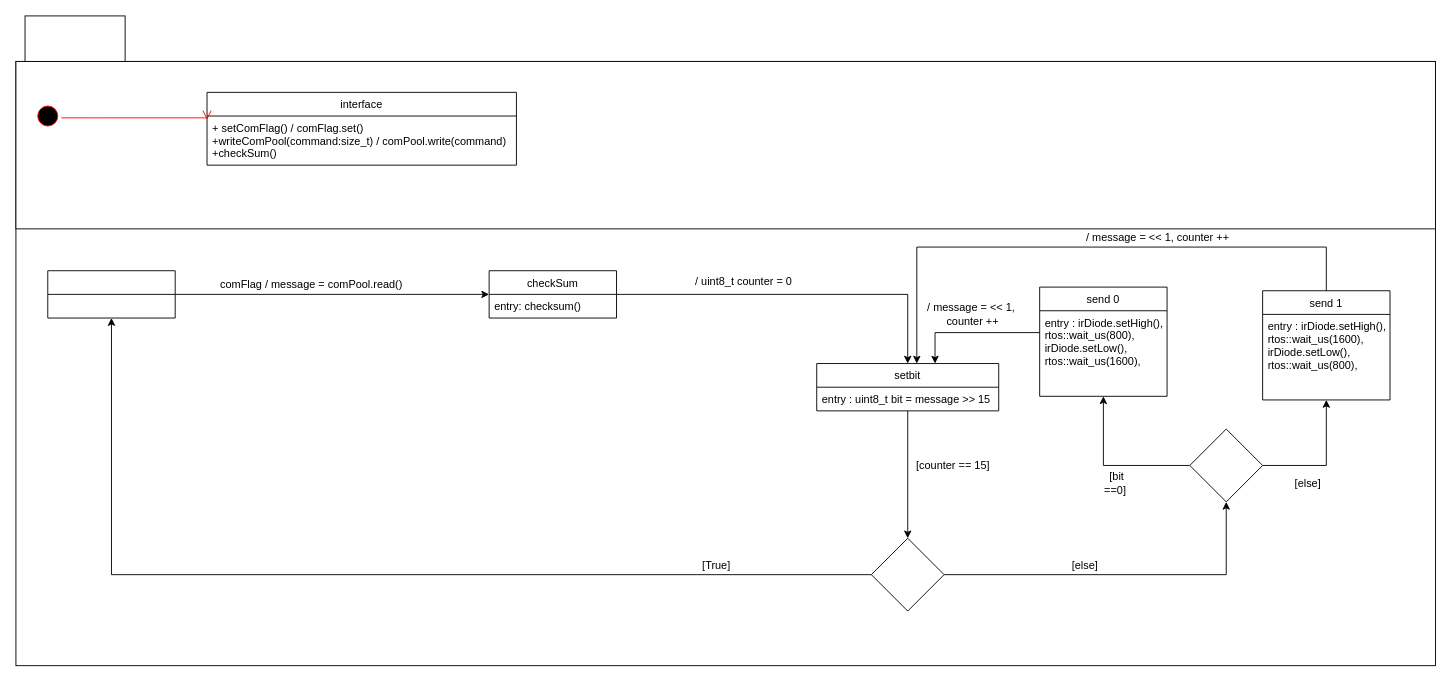
Some shapes in this 1451 by 682 pixel diagram are drawn without their labels. The centre of each missing label's shape, as x and y in pixels:
idle: the point at 111,294
send task: the point at 74,38
